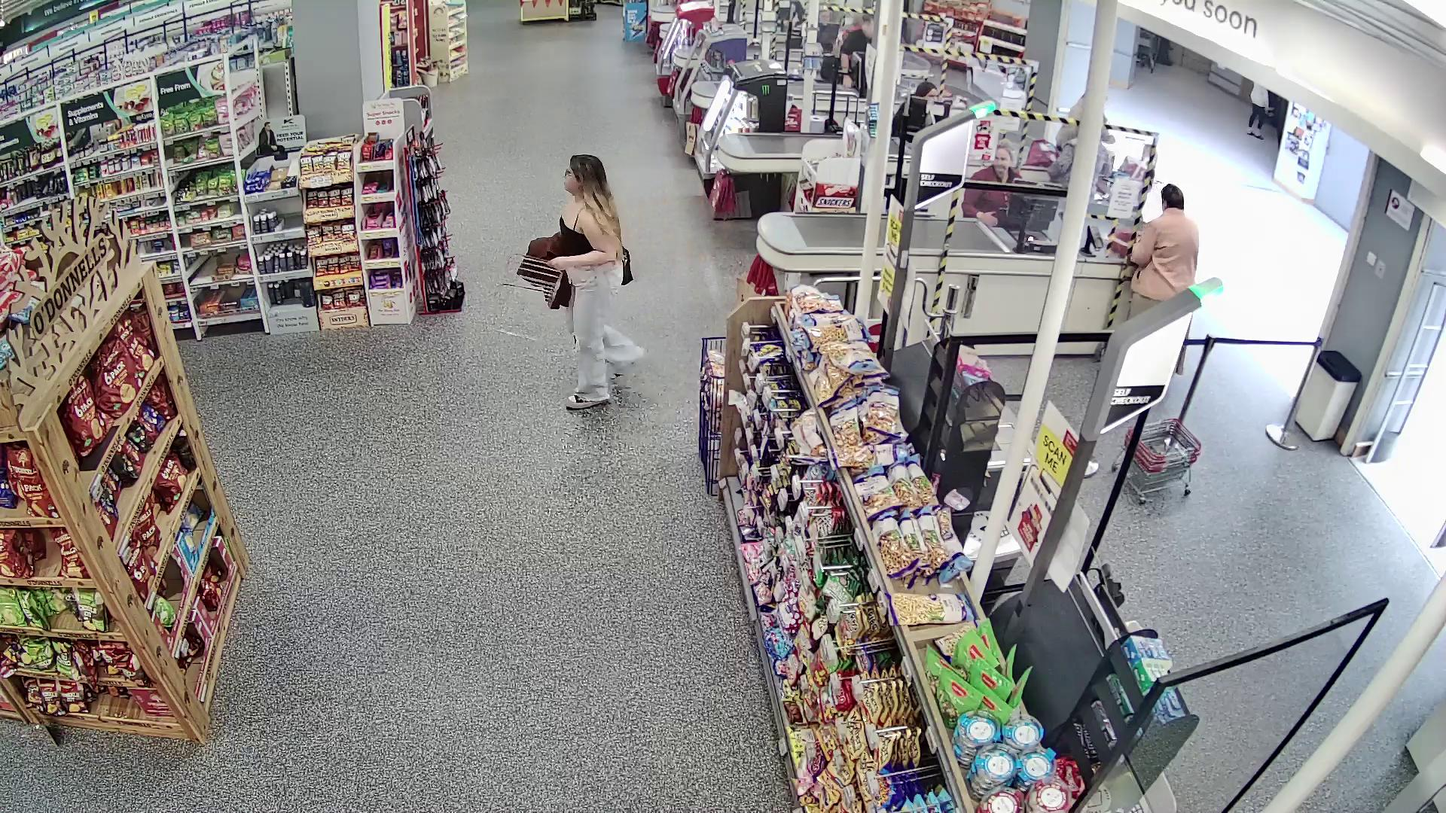backpack-or-handbag: (616, 246, 633, 286)
empty-basket: (490, 253, 562, 340)
person: (551, 153, 646, 411)
person-with-basket-trolly-and-backpack-handbag: (489, 153, 646, 409)
